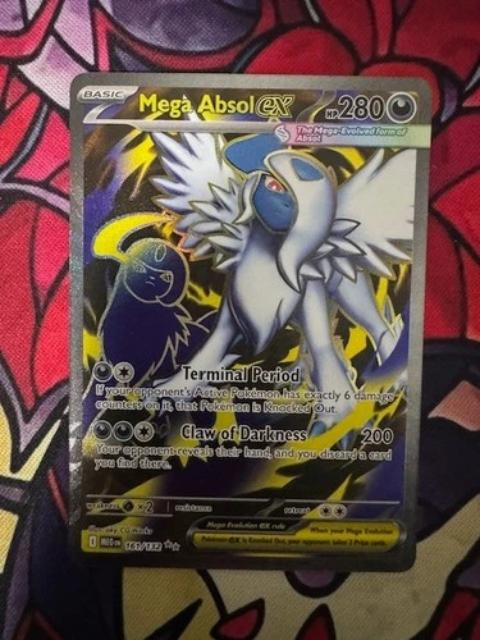Card: (61, 67, 436, 577)
Name: (132, 87, 297, 120)
